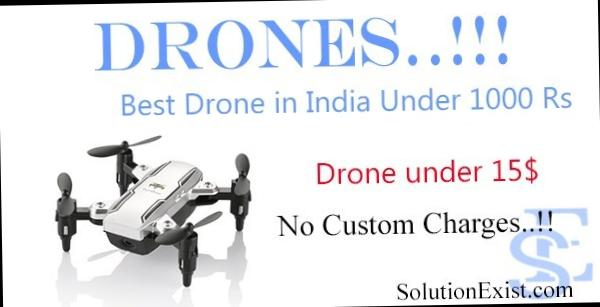drone: (38, 132, 274, 294)
